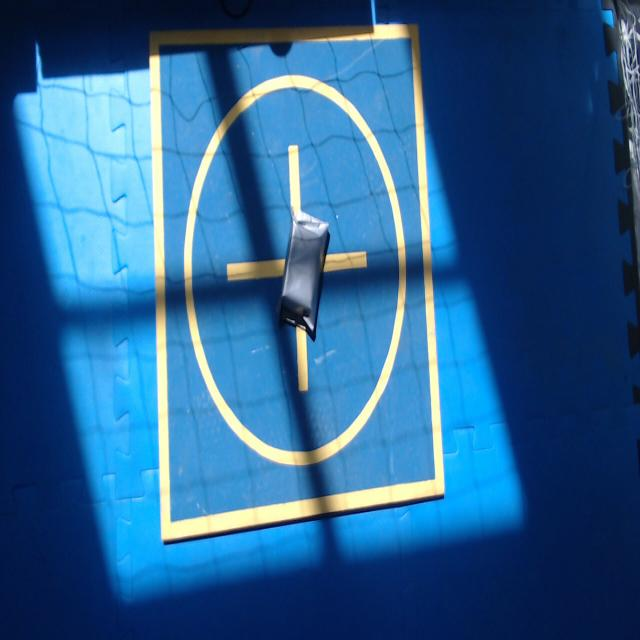direita: (279, 208, 329, 340)
